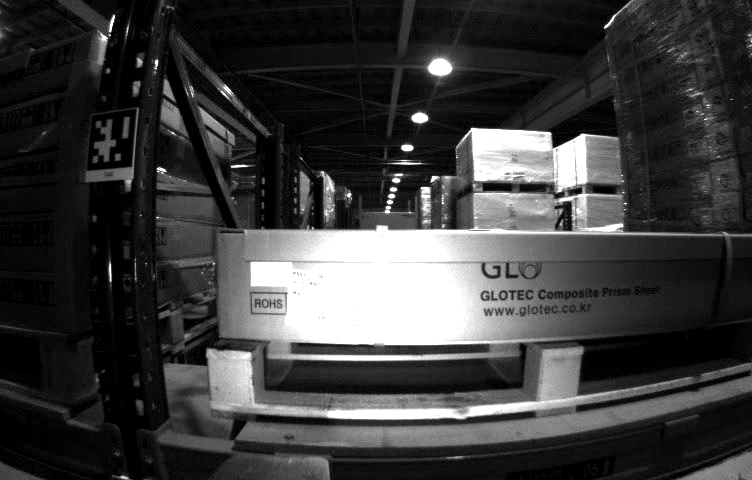True Barcode: (288, 267, 350, 325)
